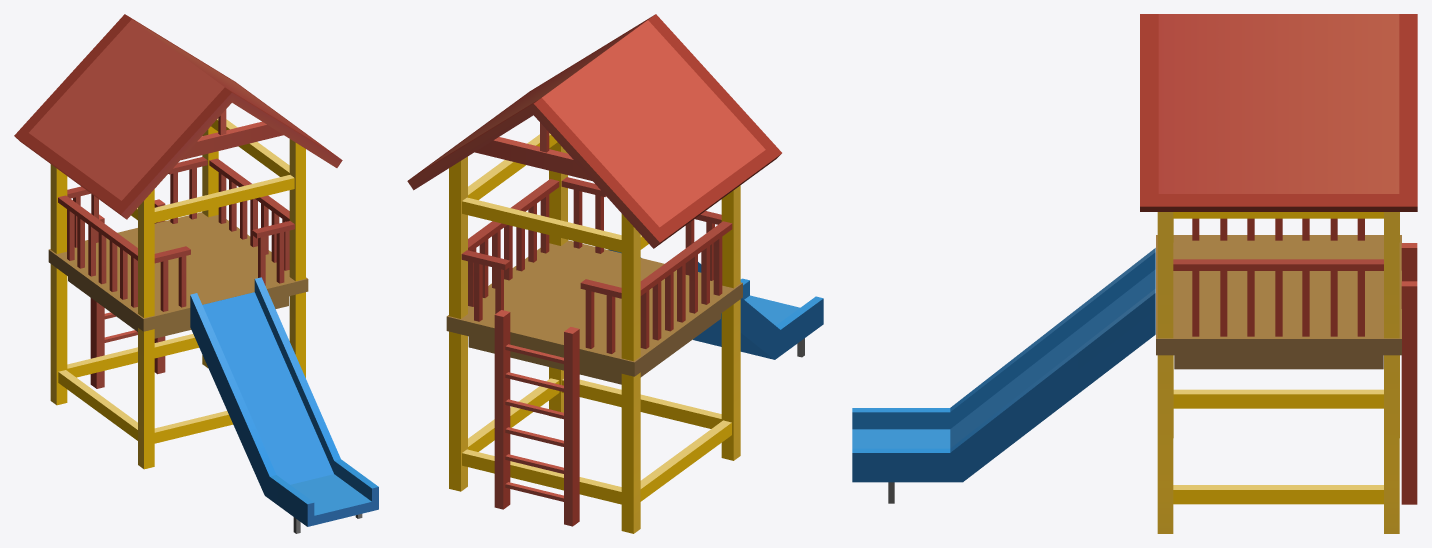
The model's file is SM_Playground_Small_01.fbx.
3 renders of one model, left to right at view 1: azimuth 30°, elevation 25°; view 2: azimuth 150°, elevation 25°; view 3: azimuth 270°, elevation 25°, orthographic. The views are drawn at different scales.
Parts seen in each view (by area): view 1: SM_Playground_Small_01; view 2: SM_Playground_Small_01; view 3: SM_Playground_Small_01.
Boxes of the visible parts, x1,y1,x2,y2 form: SM_Playground_Small_01: (14,14,378,533); SM_Playground_Small_01: (407,14,823,533); SM_Playground_Small_01: (852,14,1417,533).
Size of the model in its own units: 3.4 by 5.32 by 5.81.
